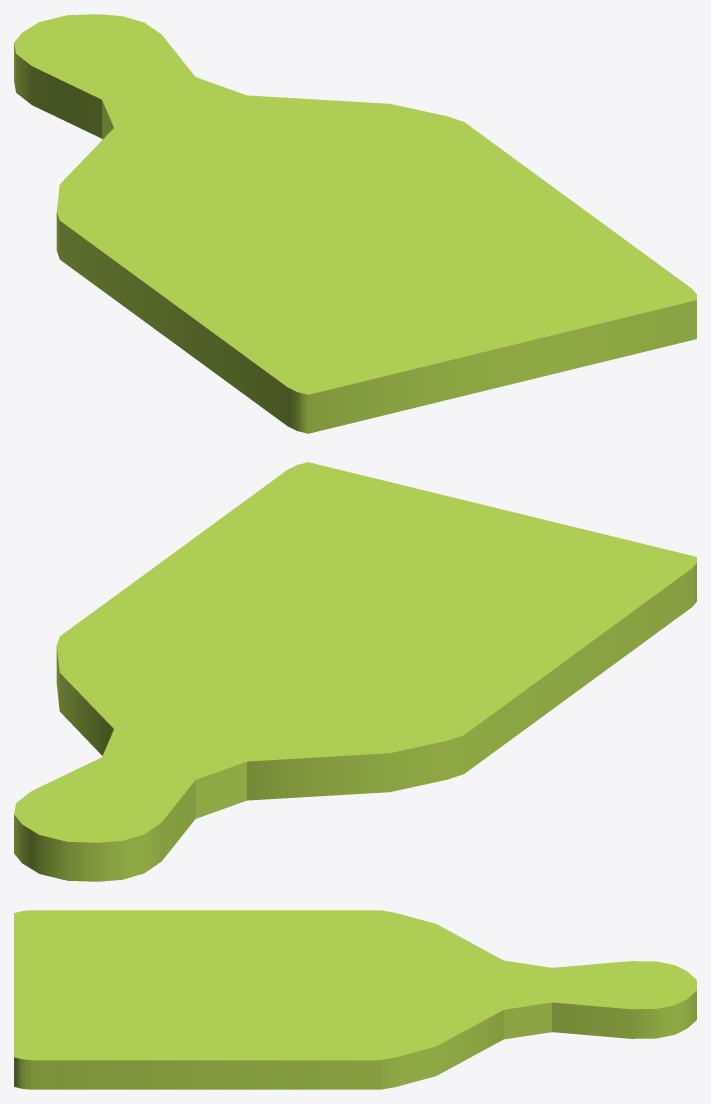
The model's file is board3_convex.fbx.
3 views of the same model, one above another, from view 1: azimuth 30°, elevation 25°; view 2: azimuth 150°, elevation 25°; view 3: azimuth 270°, elevation 25° (orthographic). The views are drawn at different scales.
Visible parts, largest first — view 1: board3_convex.001, board3_convex.002, board3_convex; view 2: board3_convex.001, board3_convex.002, board3_convex; view 3: board3_convex.001, board3_convex.002, board3_convex.
Boxes of the visible parts, x1,y1,x2,y2 form: board3_convex.001: (56, 95, 696, 433); board3_convex.002: (14, 14, 194, 138); board3_convex: (102, 77, 246, 139); board3_convex.001: (56, 462, 696, 800); board3_convex.002: (14, 757, 195, 881); board3_convex: (102, 729, 246, 818); board3_convex.001: (14, 910, 503, 1089); board3_convex.002: (552, 961, 696, 1038); board3_convex: (503, 960, 551, 1039).
Bounding box in the file's own units: 4.74 × 9.13 × 0.4371.
